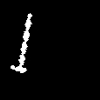half_double_crochet: (11, 14, 31, 72)
